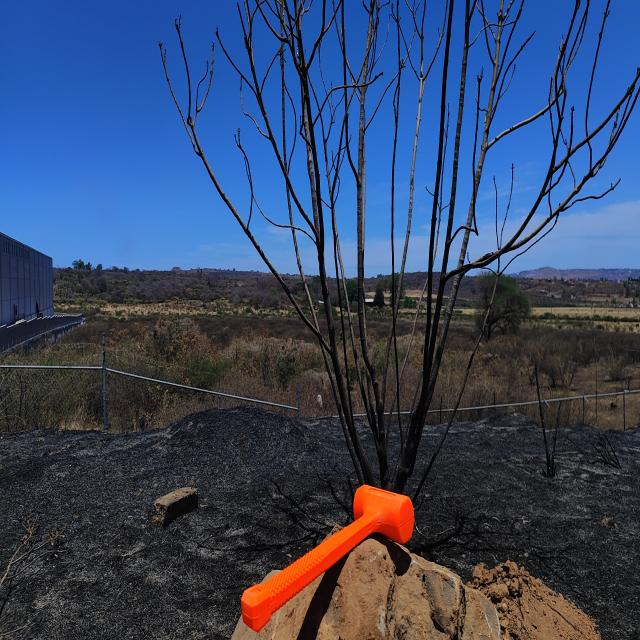Orange_hammer: (240, 482, 415, 632)
